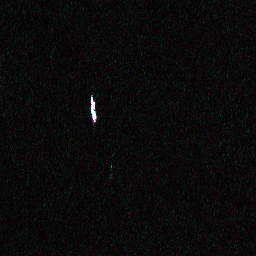ship: (88, 94, 99, 123)
